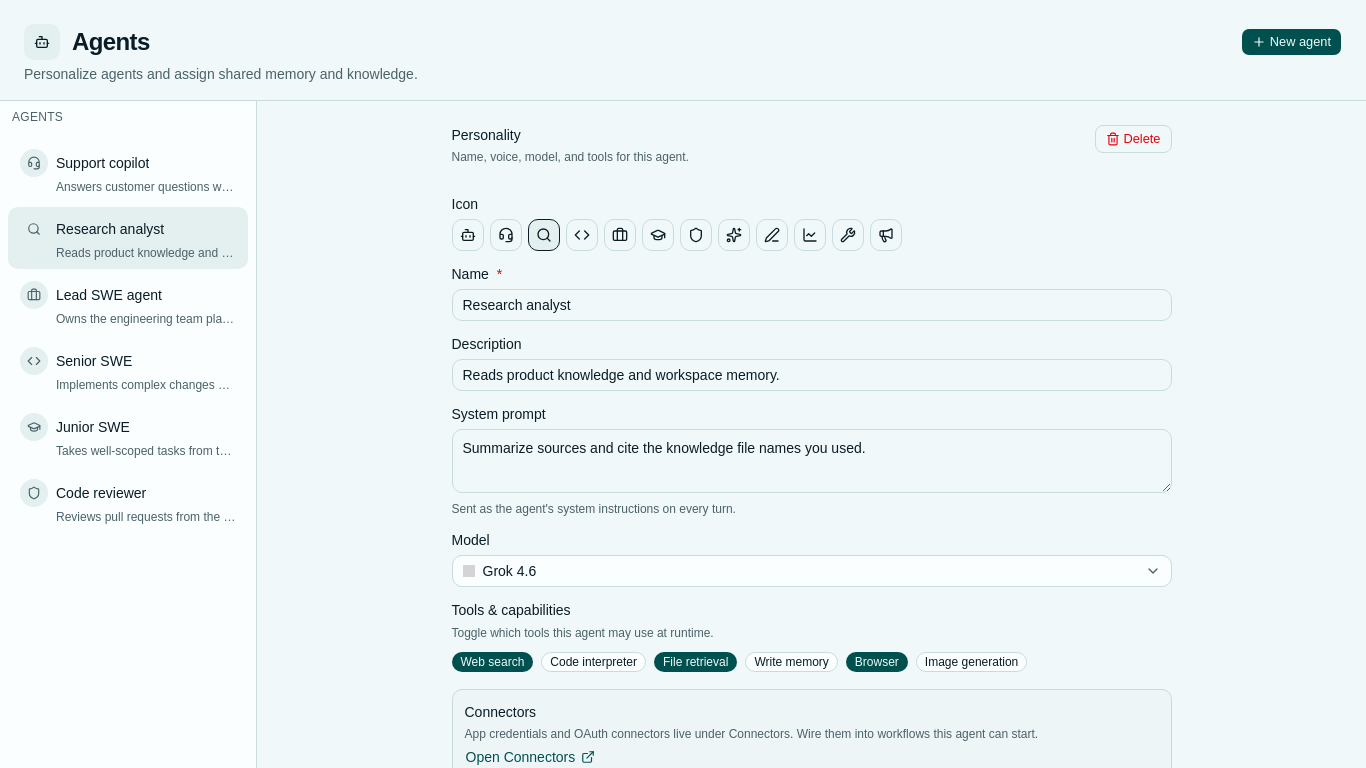
Test: AgentsPage › blocks save when the agent name is empty
The image size is (1366, 768).
Clear the field labelled "Name *": point(812, 305) [452,289,1172,321]
(page scrolled)
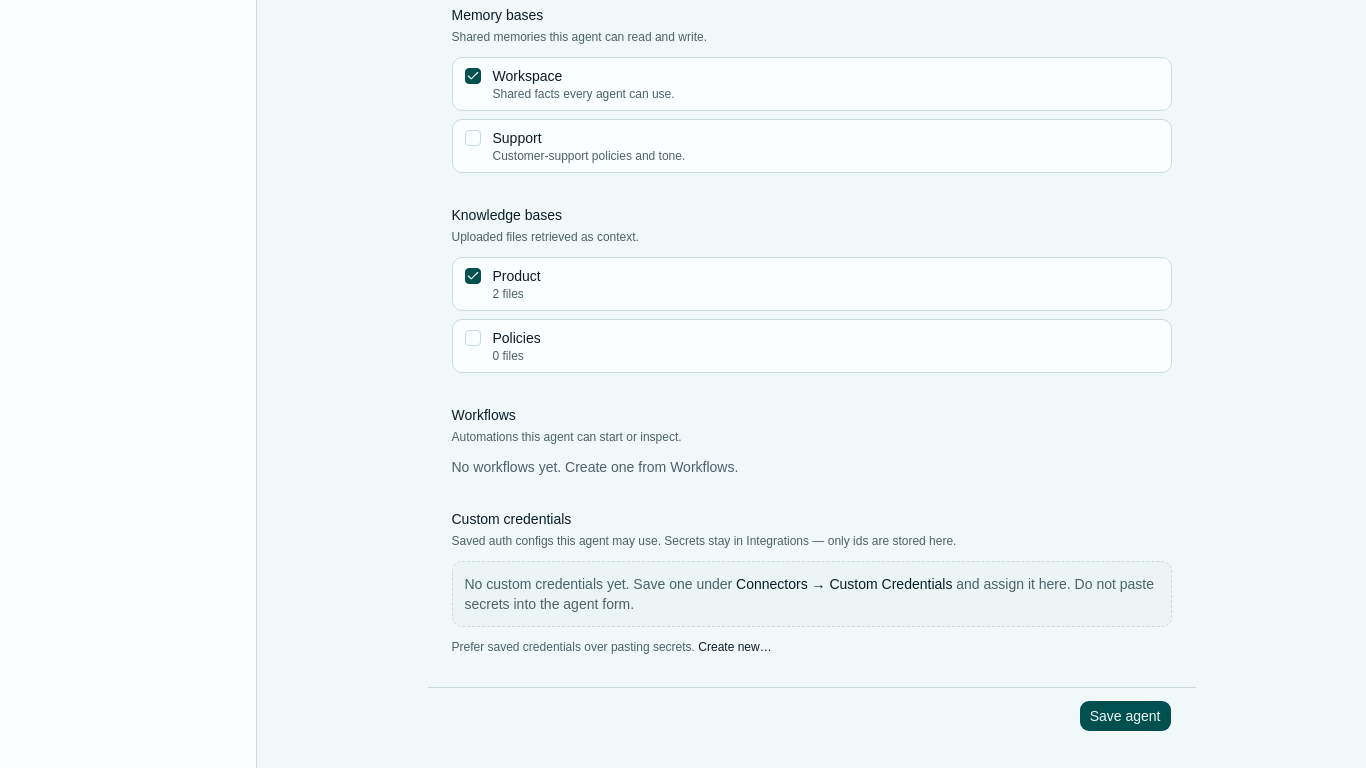
Click the button "Save agent": point(1125, 716) [1079,700,1172,732]
(page scrolled)
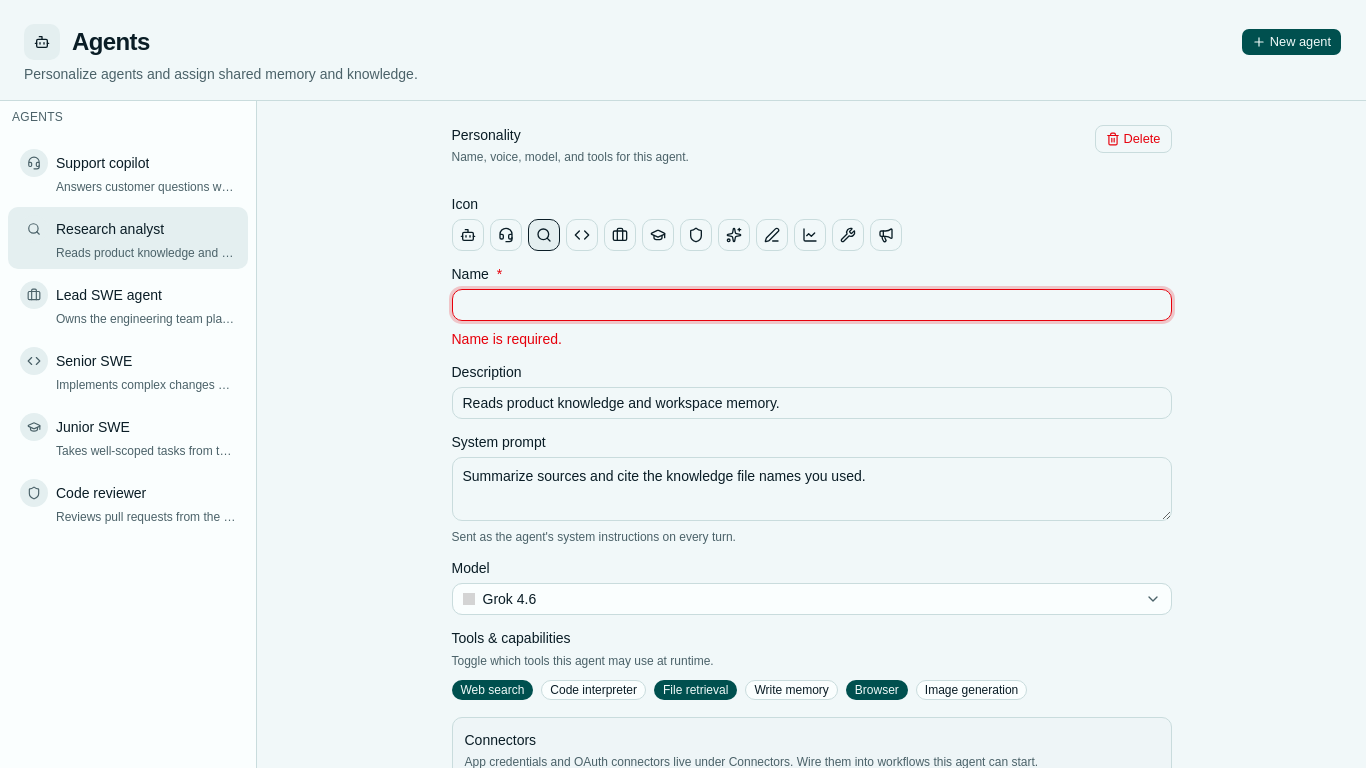
Expected: the message reads "Name is required.", [452,331,562,347]
